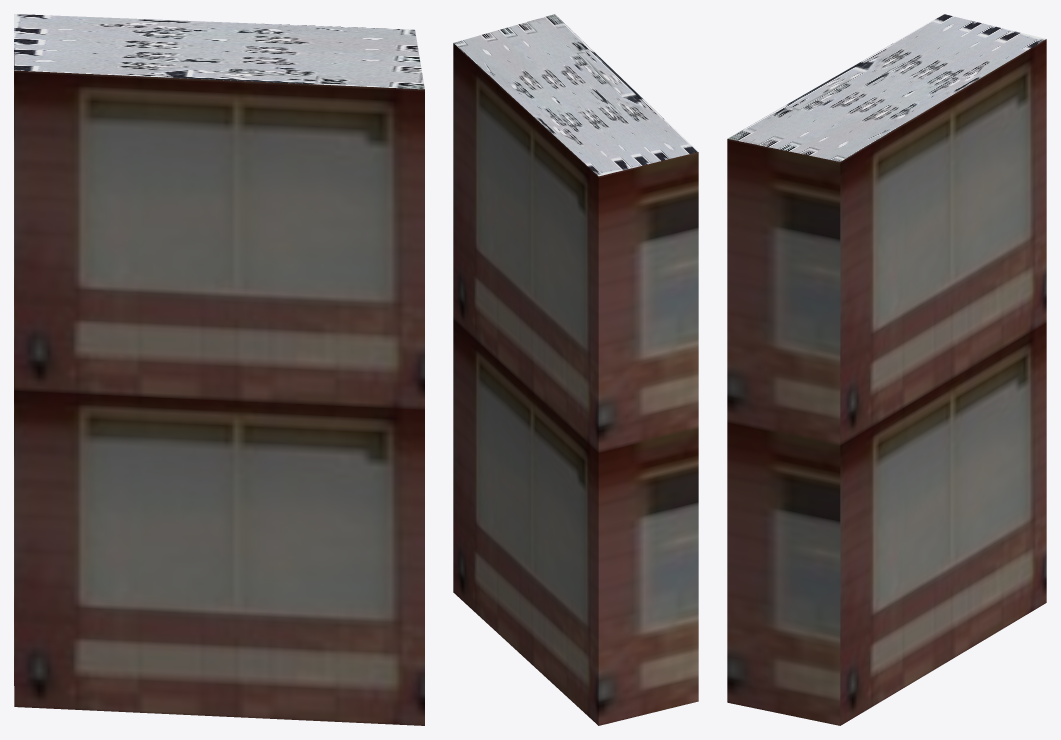
Rendered from ResTex__4358.fbx.
3 views of the same model, side by side, from view 1: azimuth 30°, elevation 25°; view 2: azimuth 150°, elevation 25°; view 3: azimuth 270°, elevation 25° (orthographic). The views are drawn at different scales.
Visible parts, largest first — view 1: CityEngineMaterial_13_m, CityEngineMaterial_8_m; view 2: CityEngineMaterial_13_m, CityEngineMaterial_8_m; view 3: CityEngineMaterial_13_m, CityEngineMaterial_8_m.
Part boxes in pixels (bbox=[...]): CityEngineMaterial_13_m: bbox=[14, 50, 424, 725]; CityEngineMaterial_8_m: bbox=[14, 14, 424, 89]; CityEngineMaterial_13_m: bbox=[453, 43, 698, 725]; CityEngineMaterial_8_m: bbox=[454, 14, 697, 176]; CityEngineMaterial_13_m: bbox=[727, 39, 1046, 725]; CityEngineMaterial_8_m: bbox=[728, 14, 1045, 161].
Size of the model in its own units: 3.38 by 6 by 3.08.
Materials: 2 (2 with a texture image).
